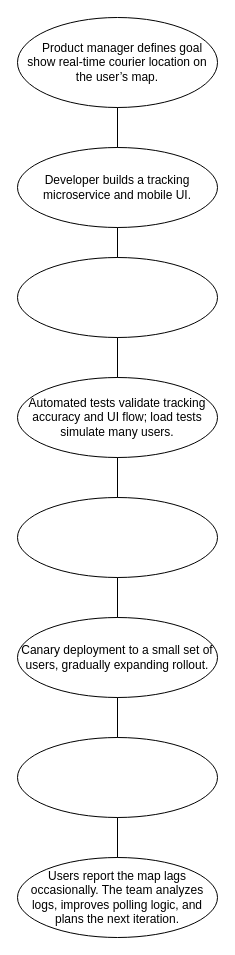
This 235x955 diagram has some shape labels left out. Each missing label, with the box of its shape:
Build is promoted to staging; feature flag enabled for internal testers.: (16, 496, 218, 578)
CI pipeline containerizes the tracking service and runs static checks.: (16, 256, 218, 338)
Service monitors latency, error rates, and responds to incidents.: (16, 736, 218, 818)
